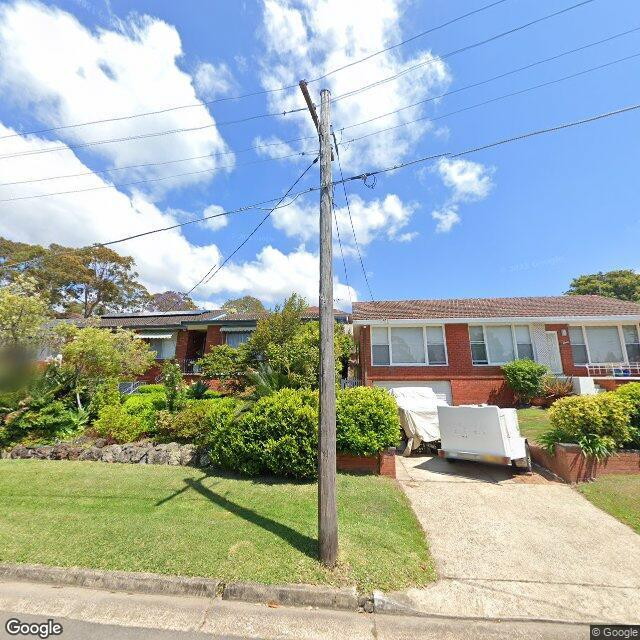crossarm: (299, 80, 334, 162)
timber-pole: (318, 88, 339, 568)
